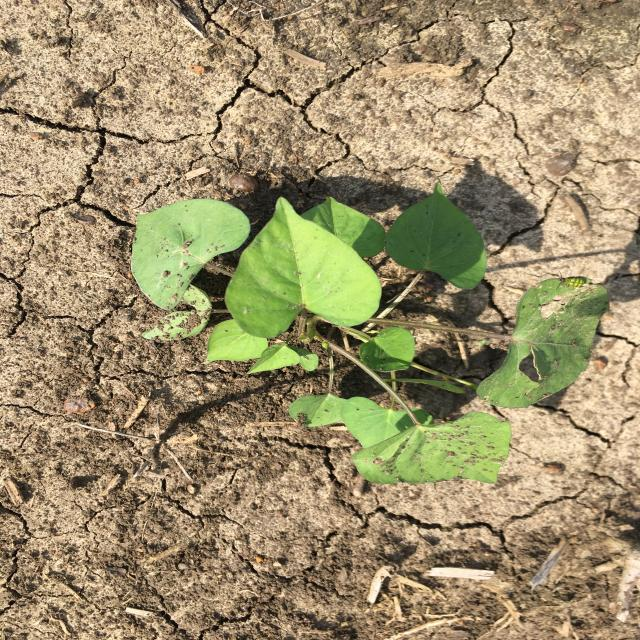MorningGlory: (123, 182, 614, 488)
